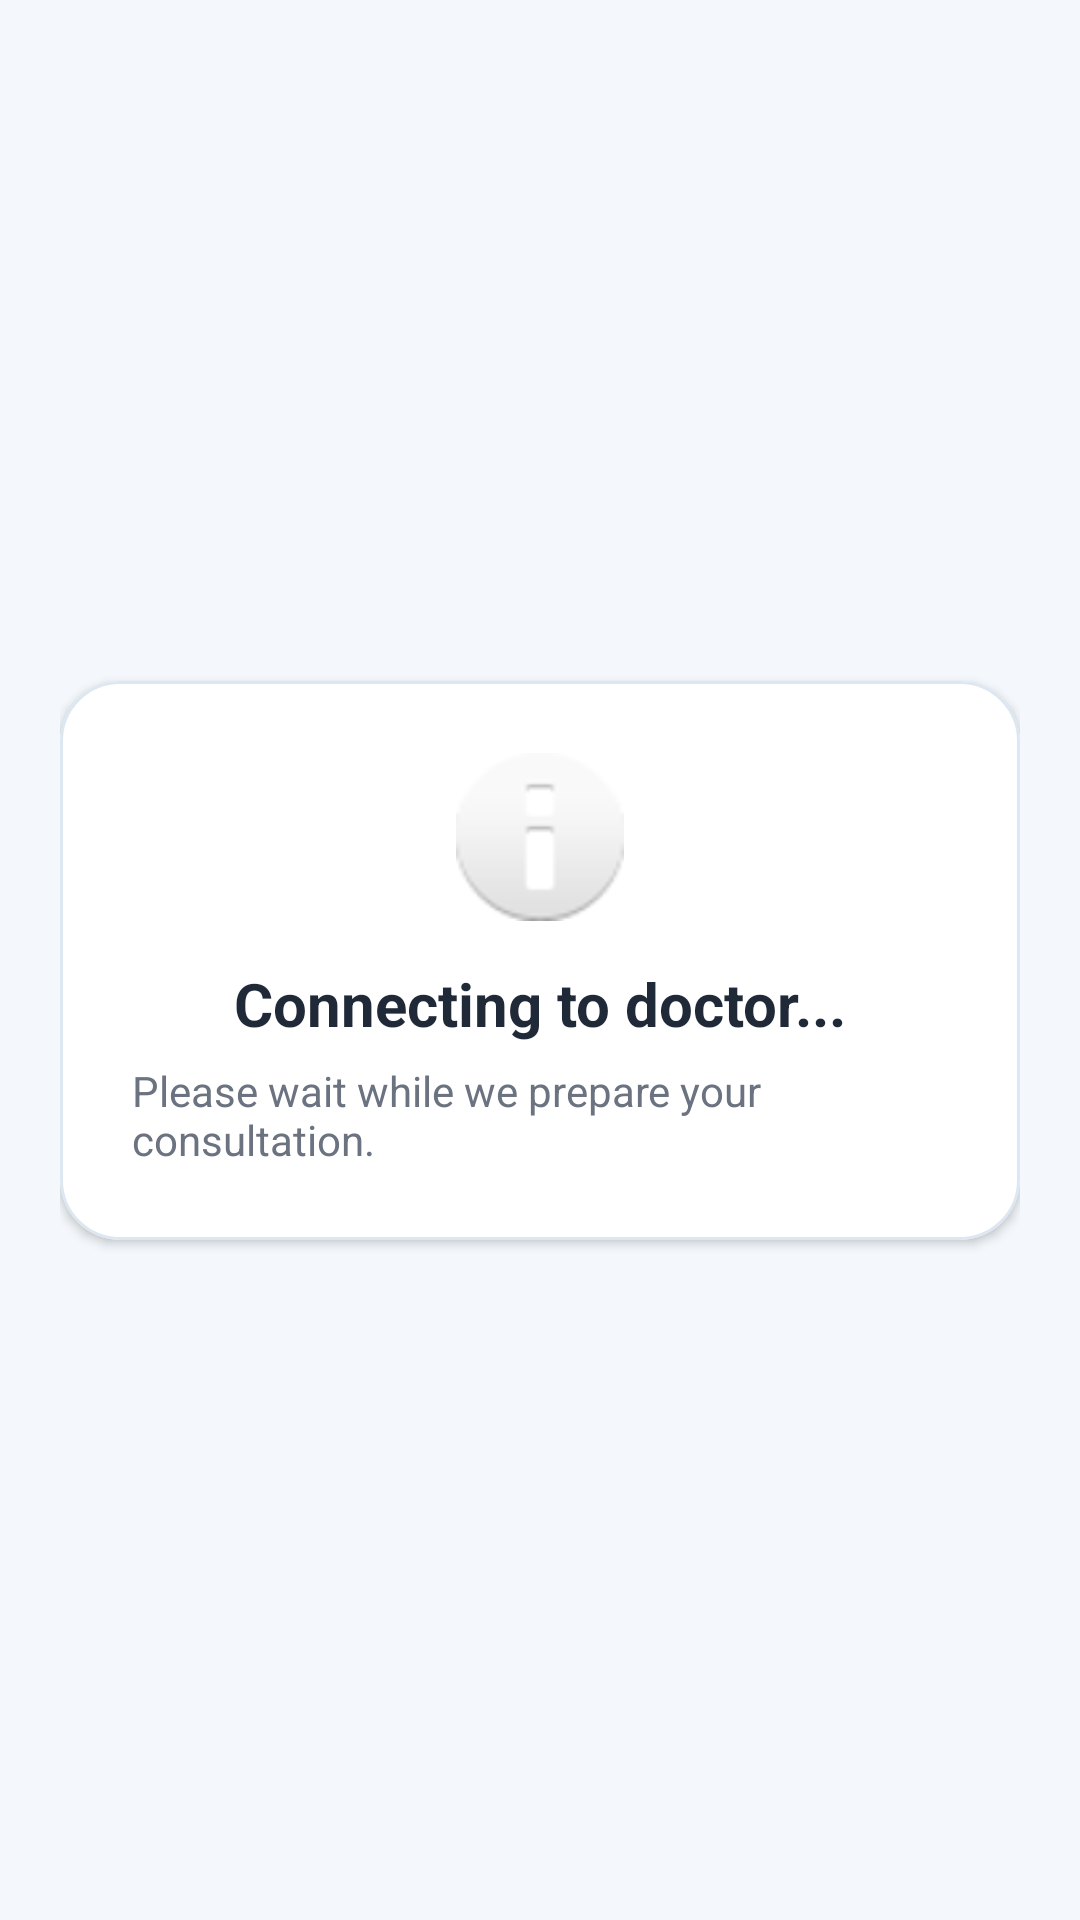

Where to tap for icons on this 1080 × 1920 app screen, as (x,y):
info: (540,852)
